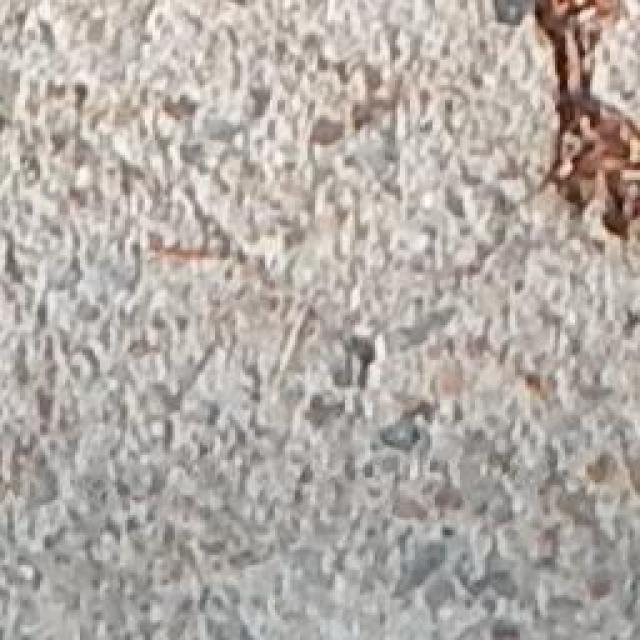concrete-crack: (526, 0, 640, 253)
